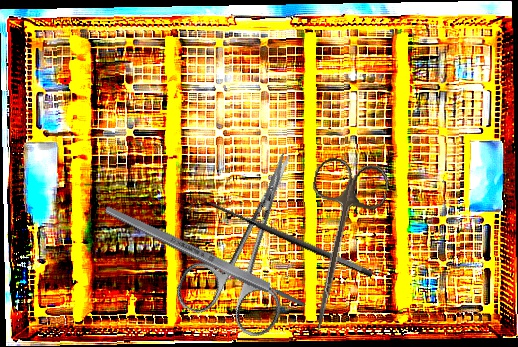Hook Surgical: (187, 189, 375, 292)
Iris Scissors: (171, 135, 338, 343), (285, 155, 392, 339)
Scalpel Handle: (101, 202, 310, 312)
